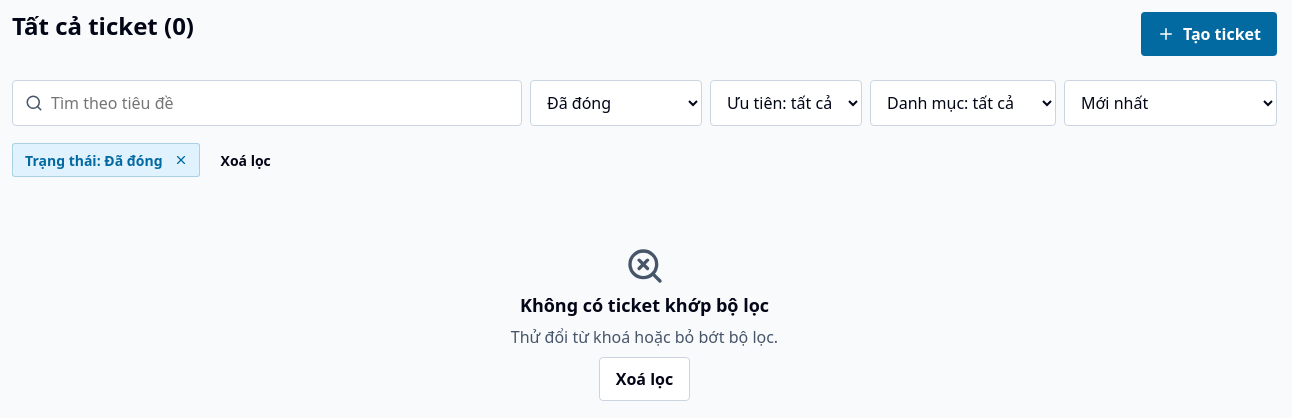
Test: Tickets page › empty state with filters offers clearing them
Expected: the heading "Không có ticket khớp bộ lọc" is shown, [520, 294, 769, 316]
Click the button "Xoá lọc" next to "Trạng thái: Đã đóng".
click(246, 160)  # box [208, 138, 284, 182]
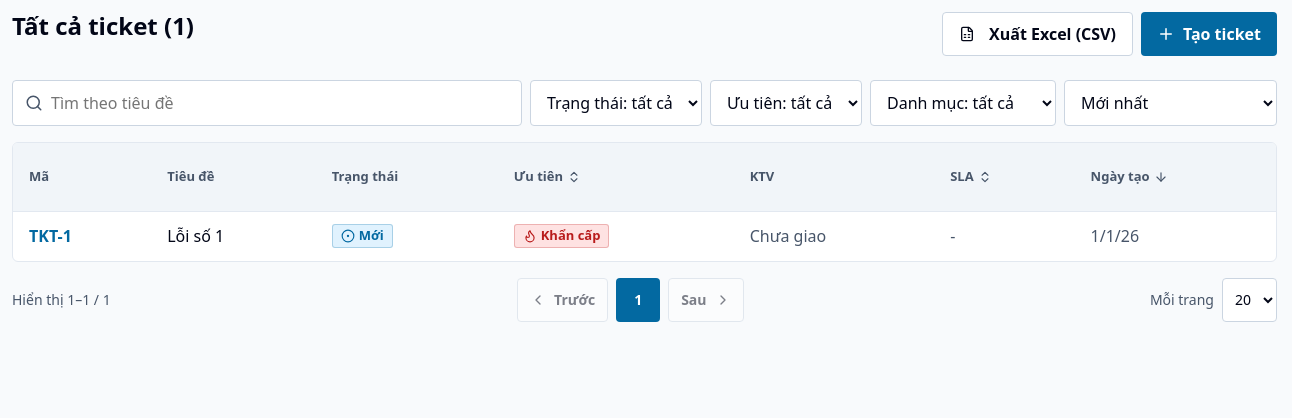
Now the link "TKT-1" is shown, box [29, 225, 72, 247]
